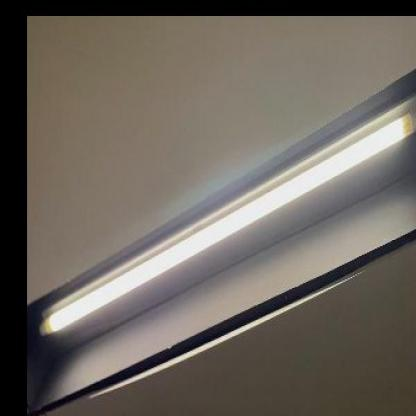light_on: (34, 83, 415, 342)
